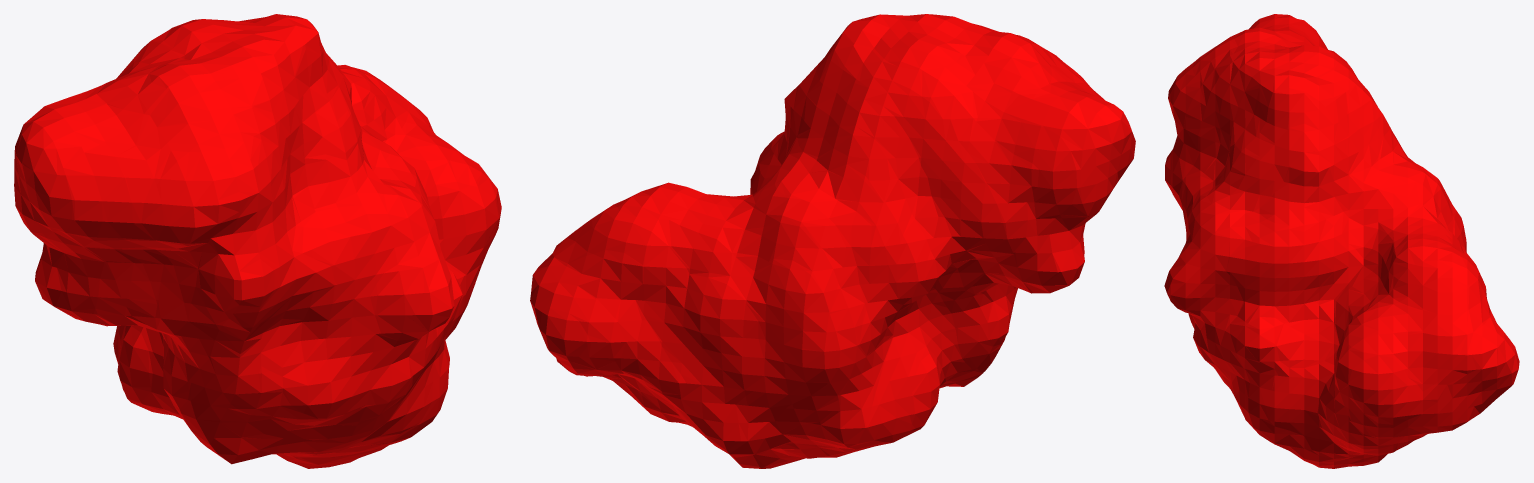
File: amyA_coarse.dae
3 renders of one model, left to right at view 1: azimuth 30°, elevation 25°; view 2: azimuth 150°, elevation 25°; view 3: azimuth 270°, elevation 25°, orthographic. The views are drawn at different scales.
Parts seen in each view (by area): view 1: amyA; view 2: amyA; view 3: amyA.
Part boxes in pixels (x1,y1,x2,y2): amyA: (14, 14, 501, 468); amyA: (530, 14, 1135, 468); amyA: (1164, 14, 1519, 468).
Bounding box in the file's own units: 78.73 × 67.43 × 59.77.
